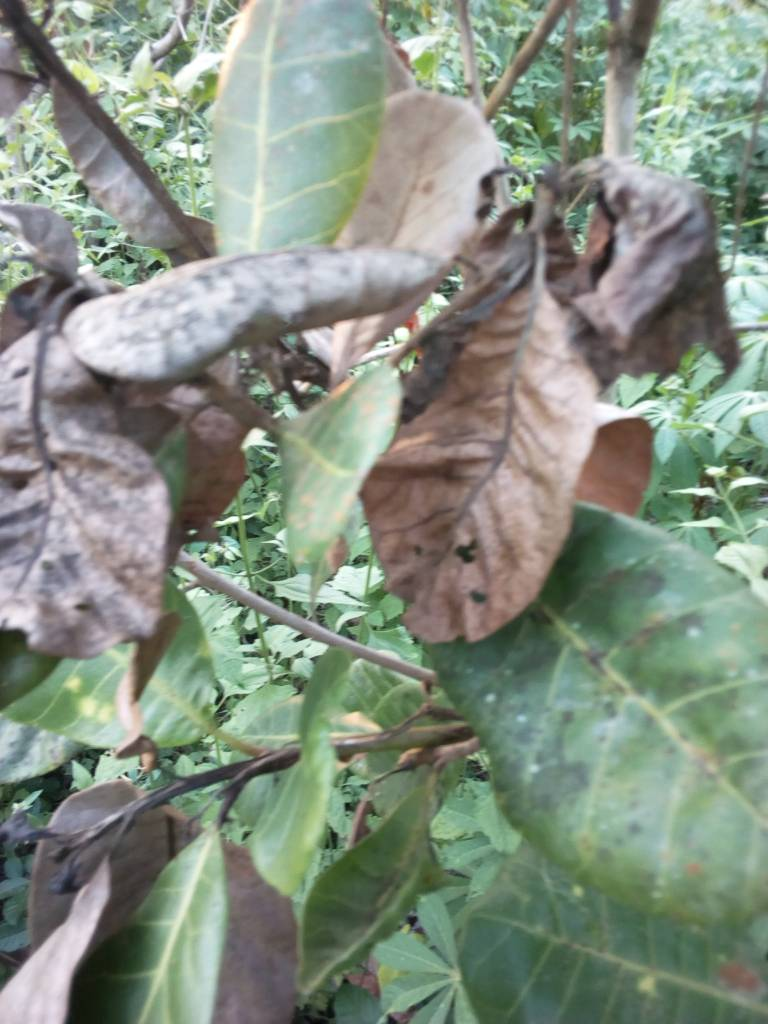Dessèchement des bourgeons: (477, 161, 614, 293), (1, 798, 136, 888), (4, 242, 109, 352)
